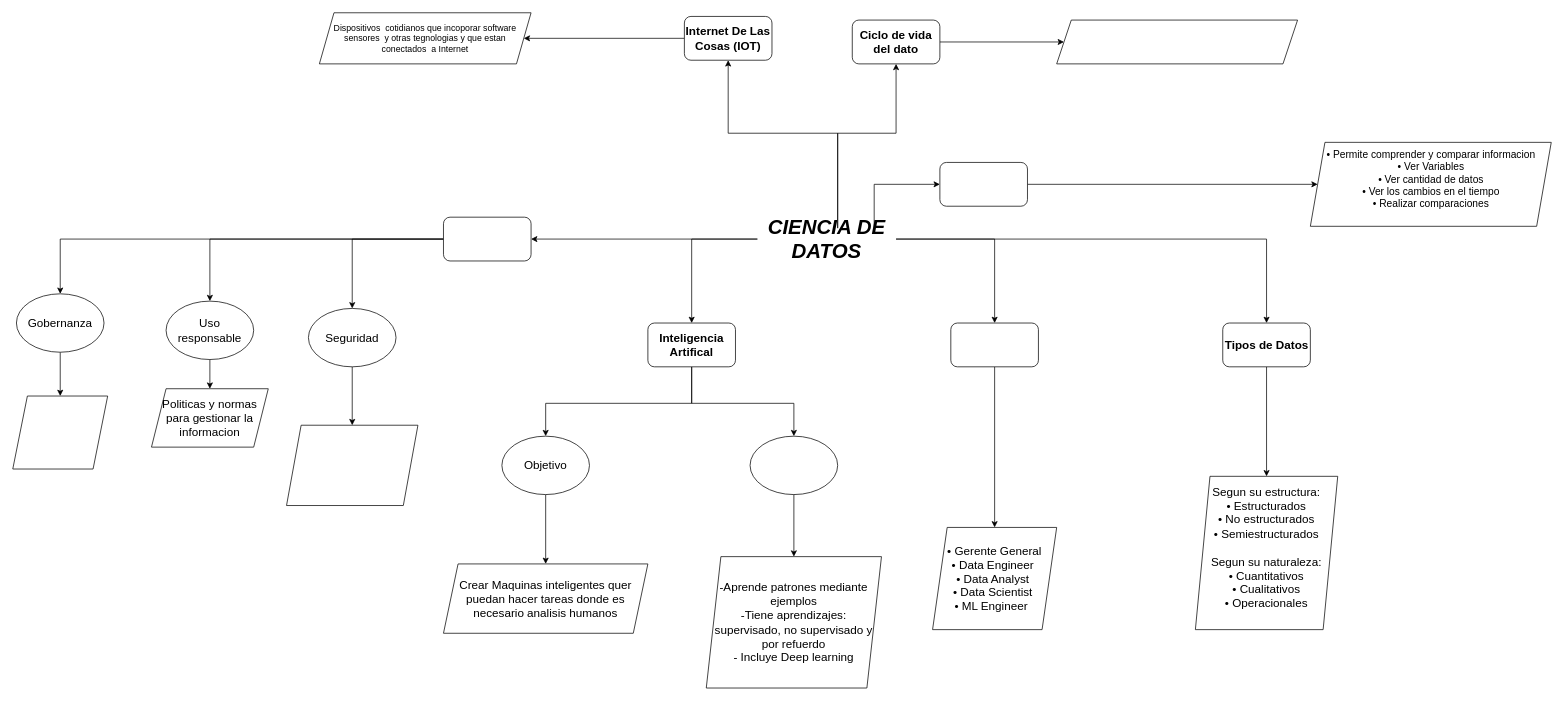
Image size: 1564x701. Some labels were removed from this diagram. Each missing label, with the box of its shape:
Creación → Almacenamiento → Procesamiento → Compartición → Archivo → Eliminación: (1056, 19, 1298, 64)
Etica de los Datos: (443, 216, 531, 261)
Machine Learning: (749, 435, 838, 495)
Roles: (950, 322, 1038, 367)
Vizualizacion de datos: (939, 162, 1027, 206)
• Confidencialidad • Integridad • Disponibilidad: (286, 424, 418, 506)
• No vender datos • No compartir • No robar: (12, 395, 108, 469)
